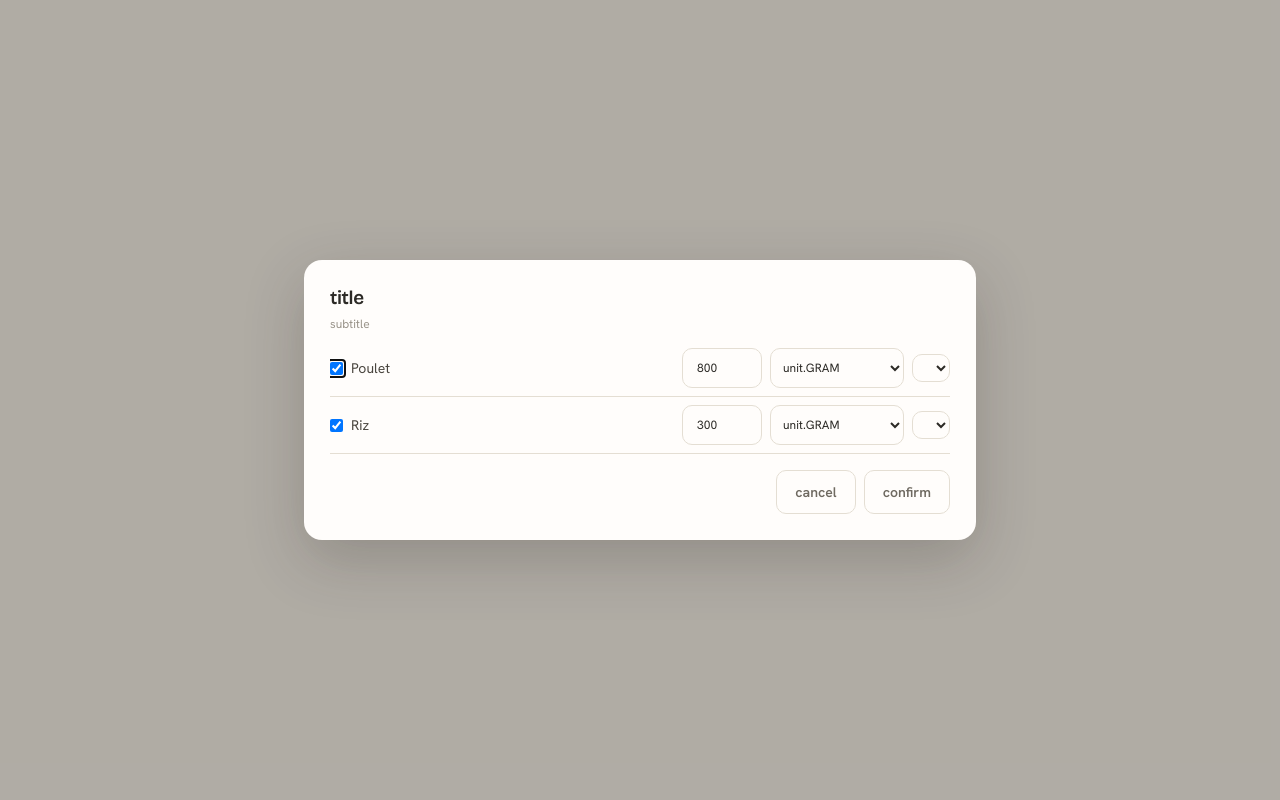
Test: ExportToShoppingListModal › shows an error message when the import fails
The image size is (1280, 800).
Expected: the text "Poulet" is shown, [351,359,390,377]
Click the button "confirm": click(907, 492) [864,470,950,514]
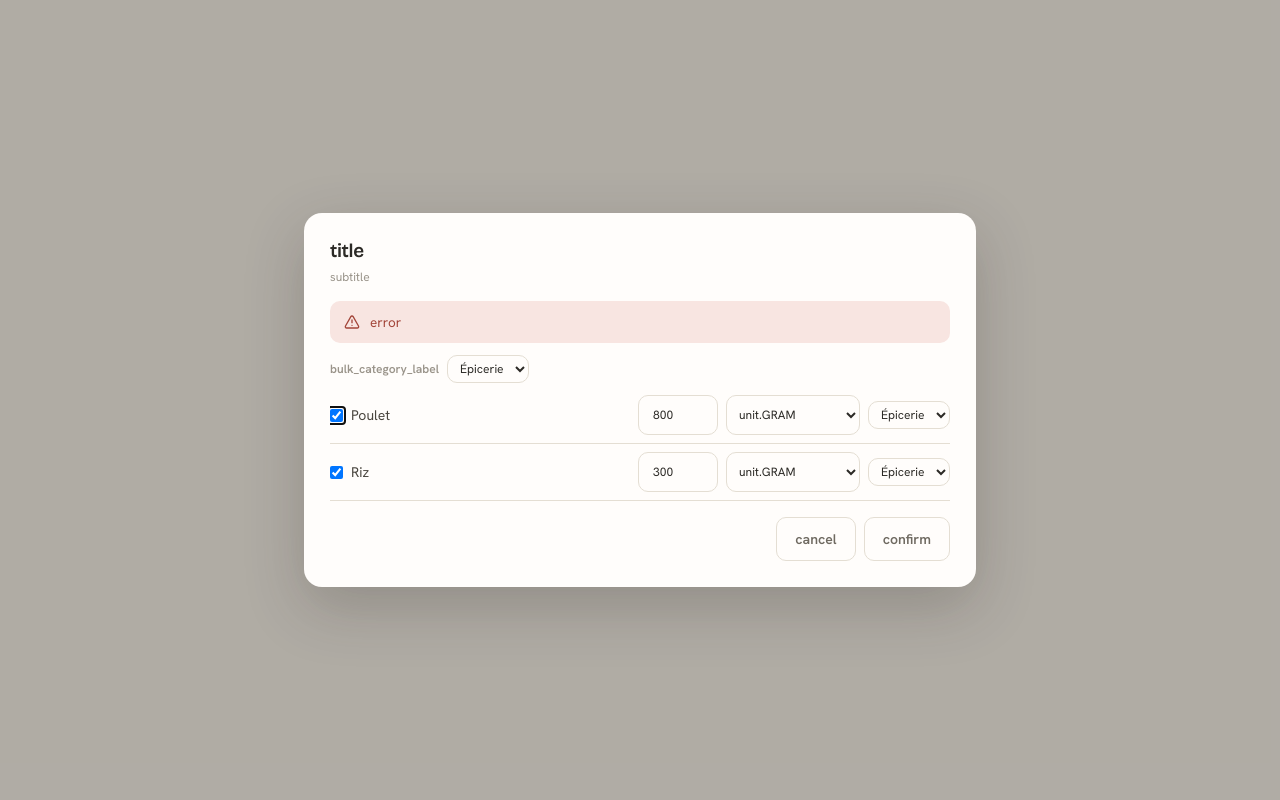
Now the text "error" is shown, box [370,313,401,331]
